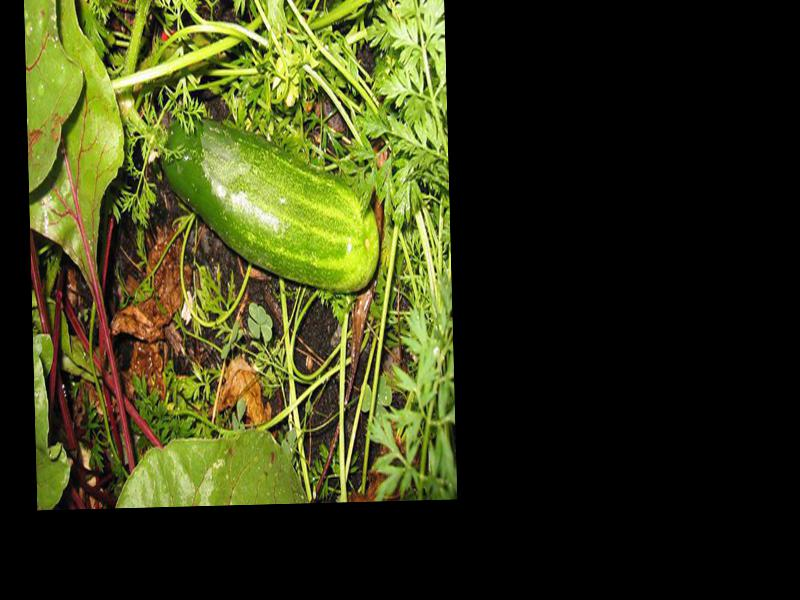Cucumber: (159, 105, 377, 299)
